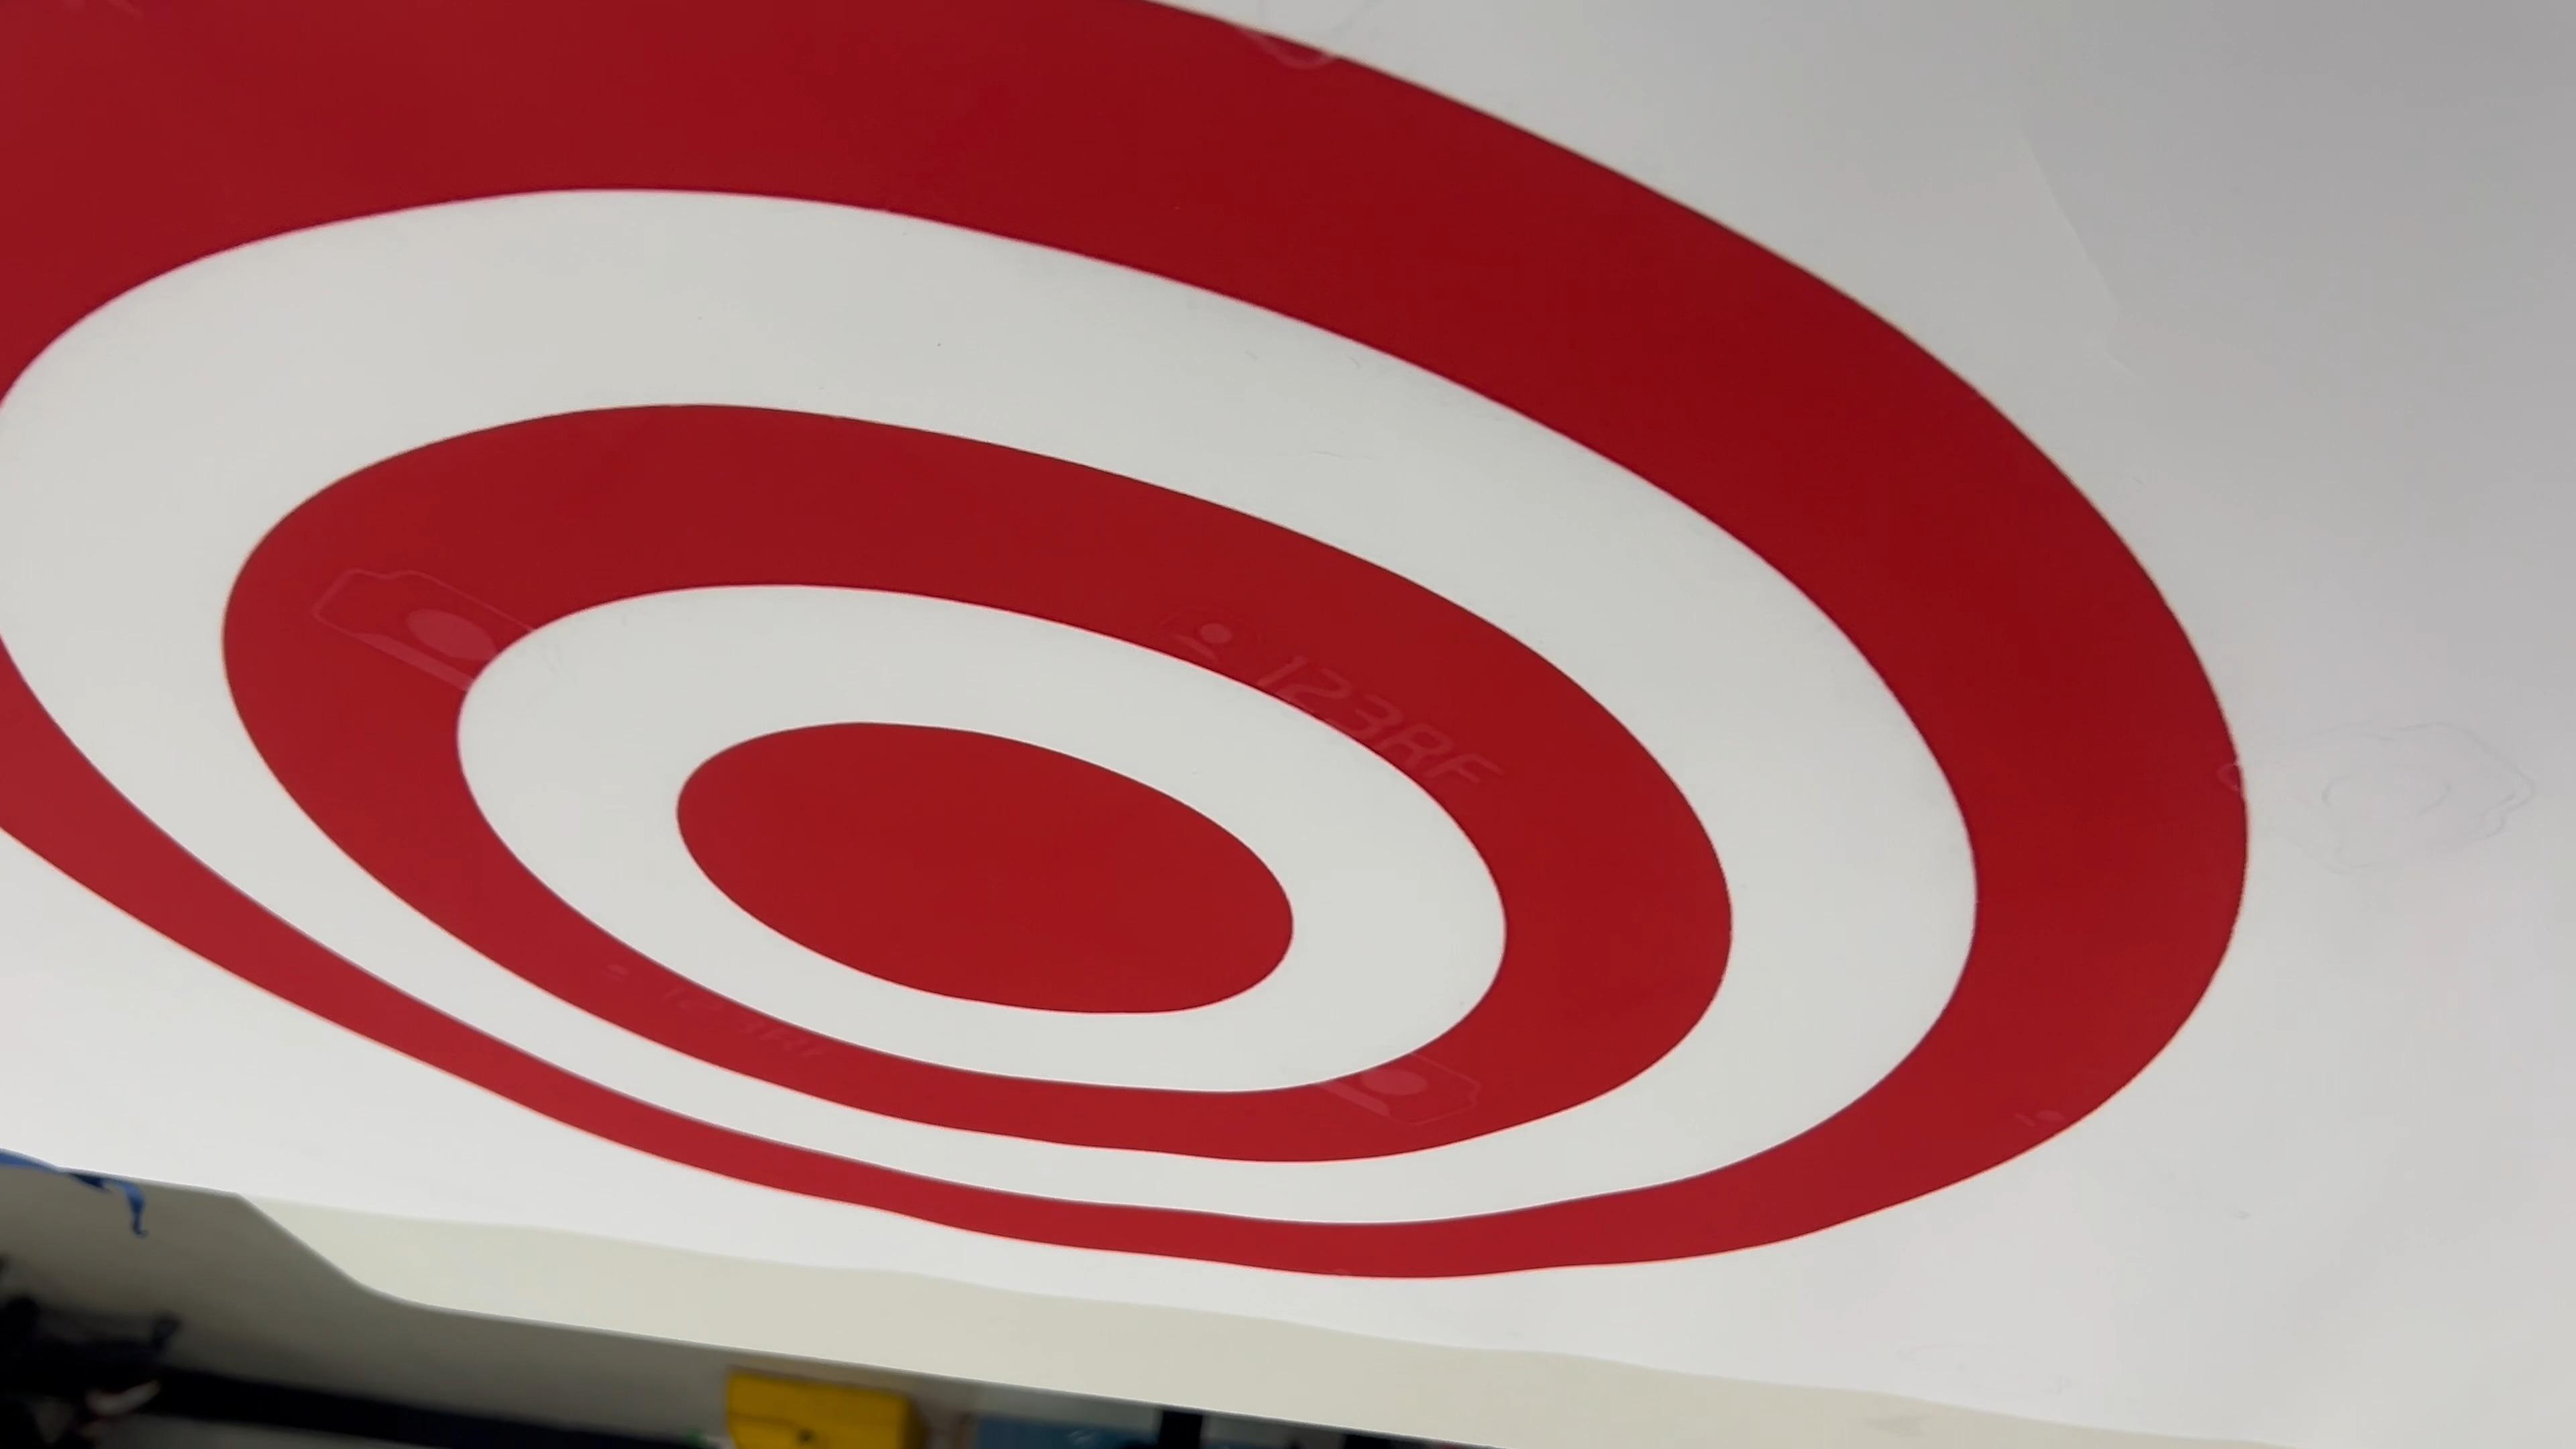target_red: (0, 0, 2268, 1343)
